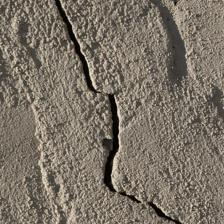Crack: (5, 17, 95, 146), (29, 35, 76, 147)
